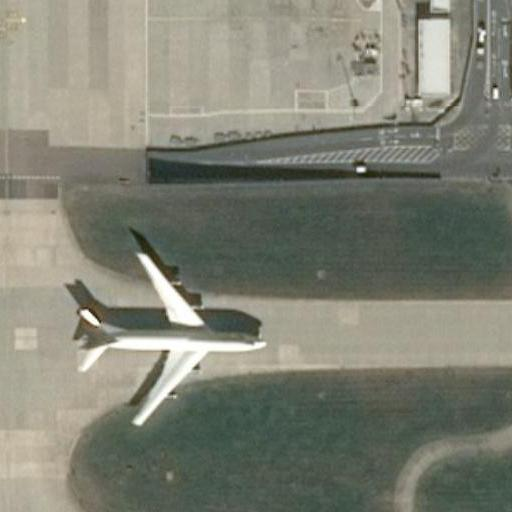Aircraft: (56, 238, 268, 427)
